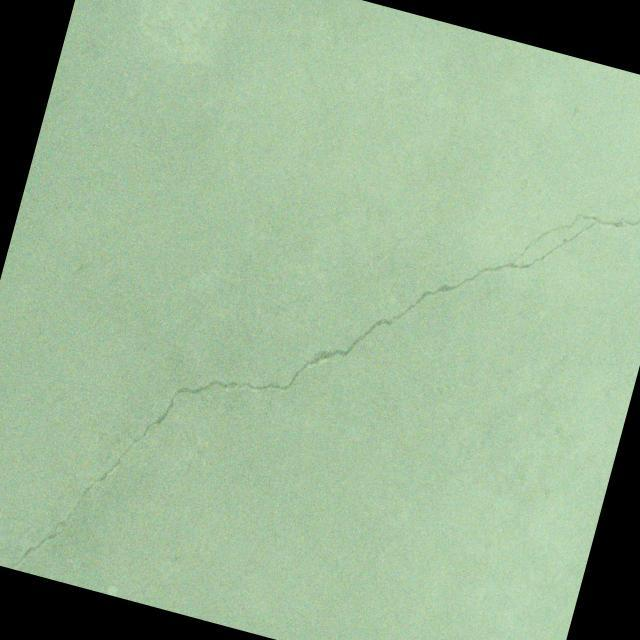crack: (7, 37, 640, 640)
